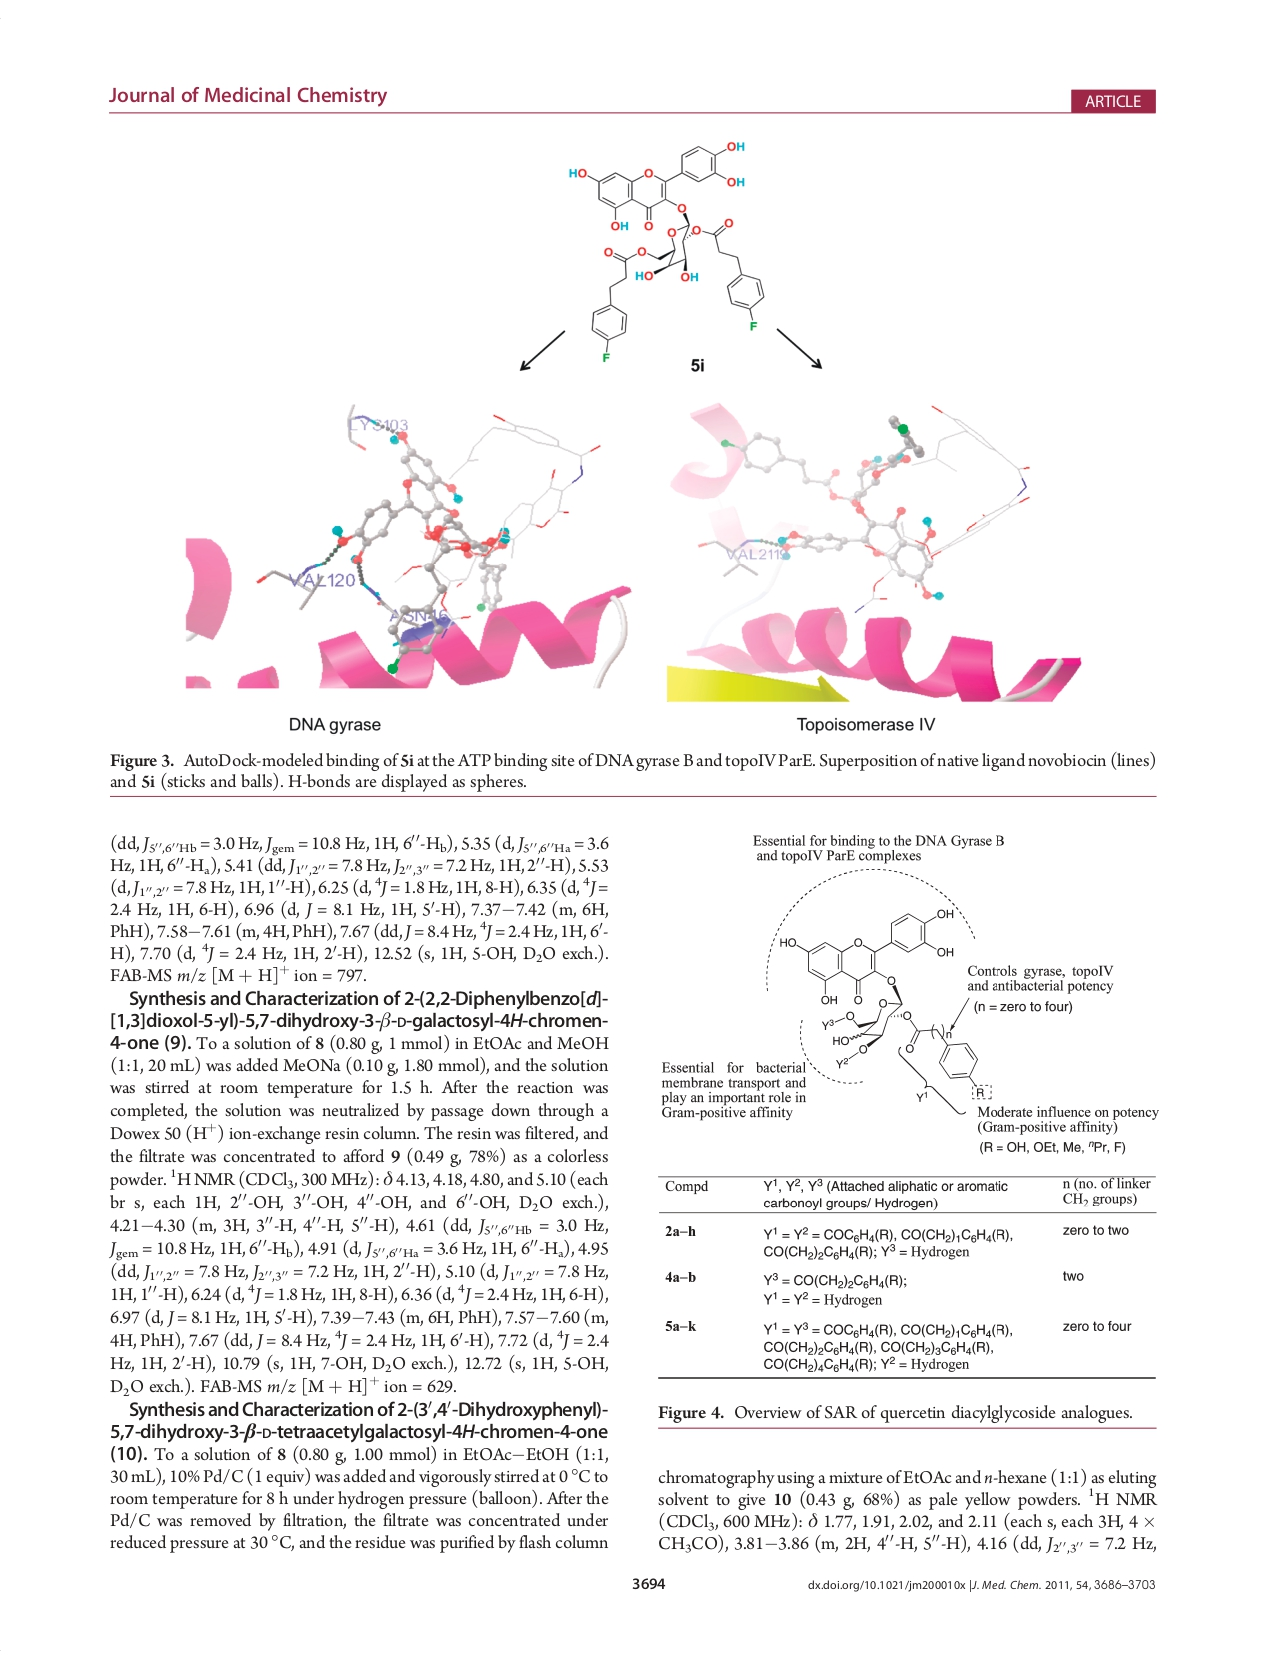exist_molecular: (565, 140, 769, 366), (777, 907, 993, 1102)
